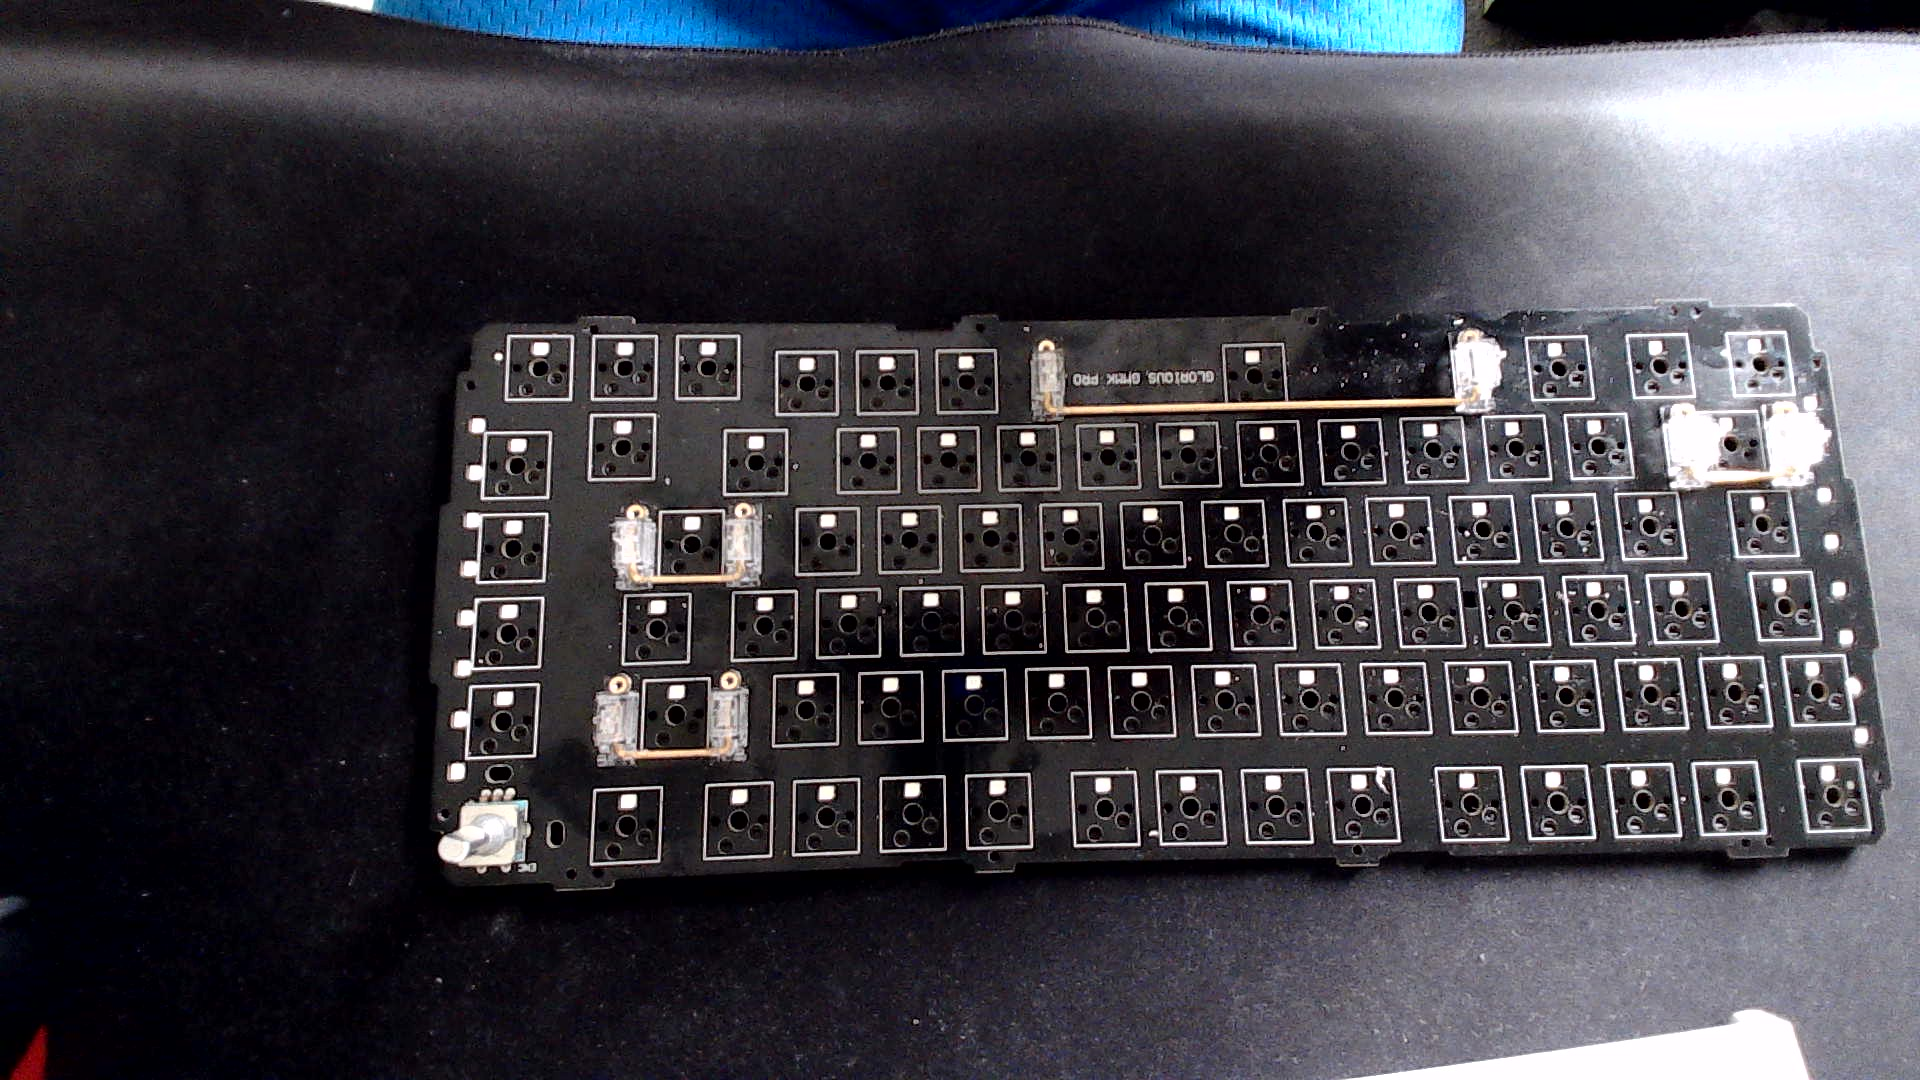pcb: (400, 276, 1907, 907)
